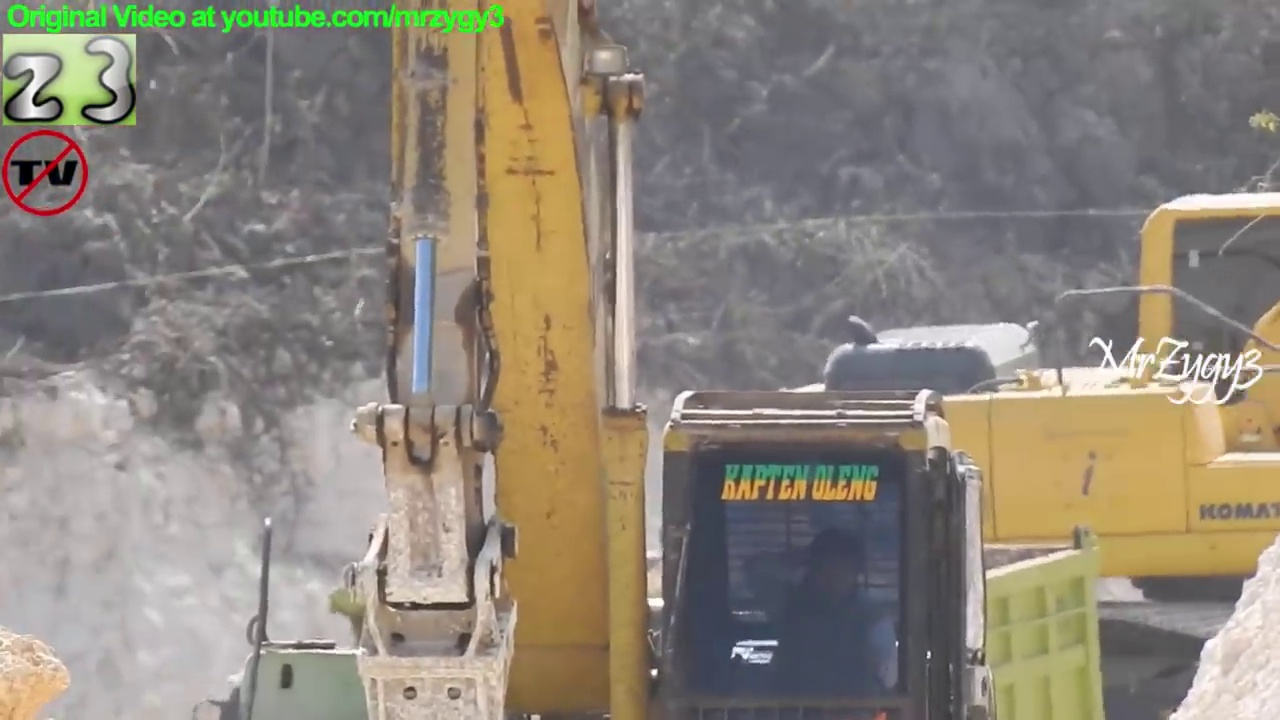excavator: (320, 1, 1015, 720), (726, 1, 1280, 720)
truck: (499, 514, 1119, 720)
